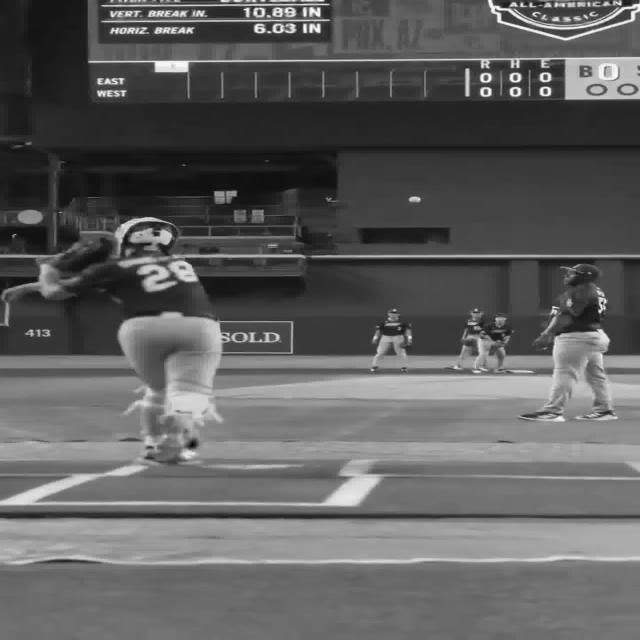base: (505, 369, 535, 374)
baseball: (407, 196, 421, 203)
baseball_glove: (51, 236, 113, 272)
shoe: (142, 447, 200, 464), (517, 411, 565, 422), (574, 410, 618, 420), (471, 367, 489, 373), (493, 368, 513, 373), (448, 364, 462, 370), (369, 366, 378, 371), (400, 367, 408, 372), (471, 369, 481, 373)
